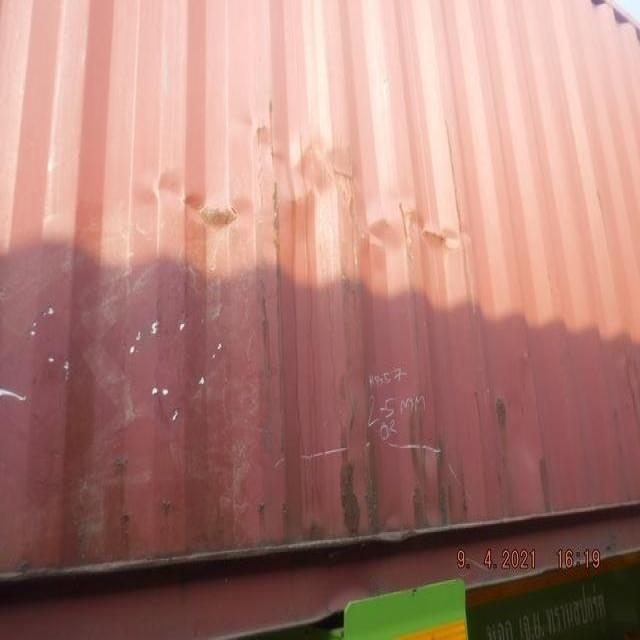dent: (127, 108, 475, 282), (336, 424, 460, 513)
